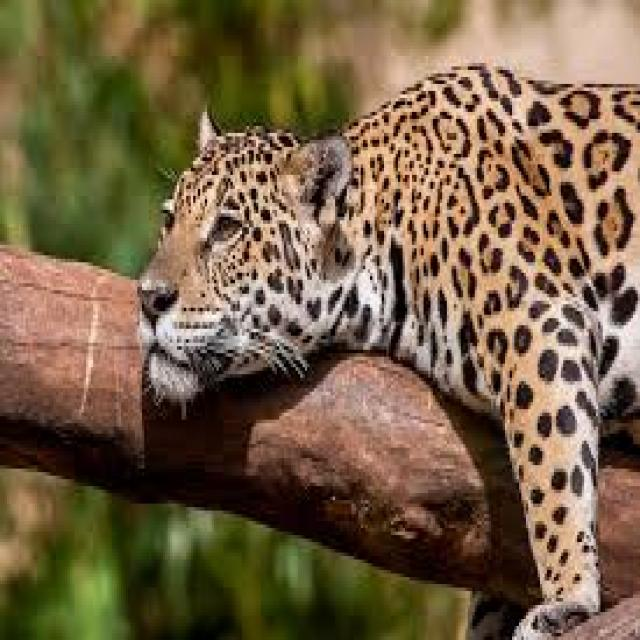Jaguar: (139, 77, 640, 619)
